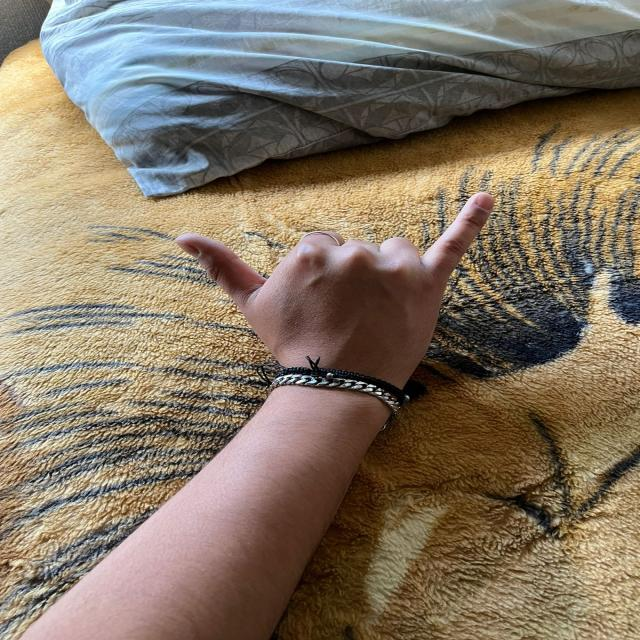Y: (162, 182, 498, 368)
